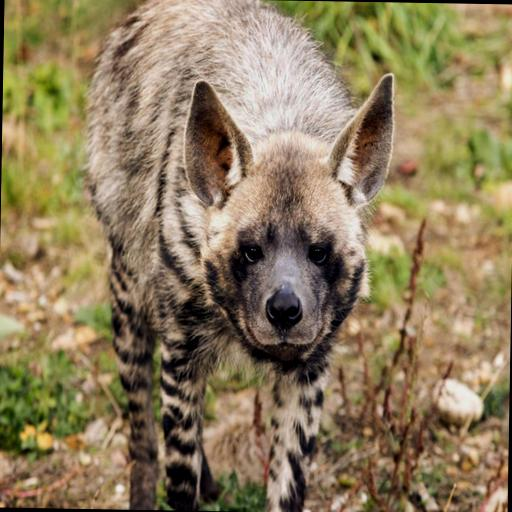hyenas: (39, 2, 429, 512)
